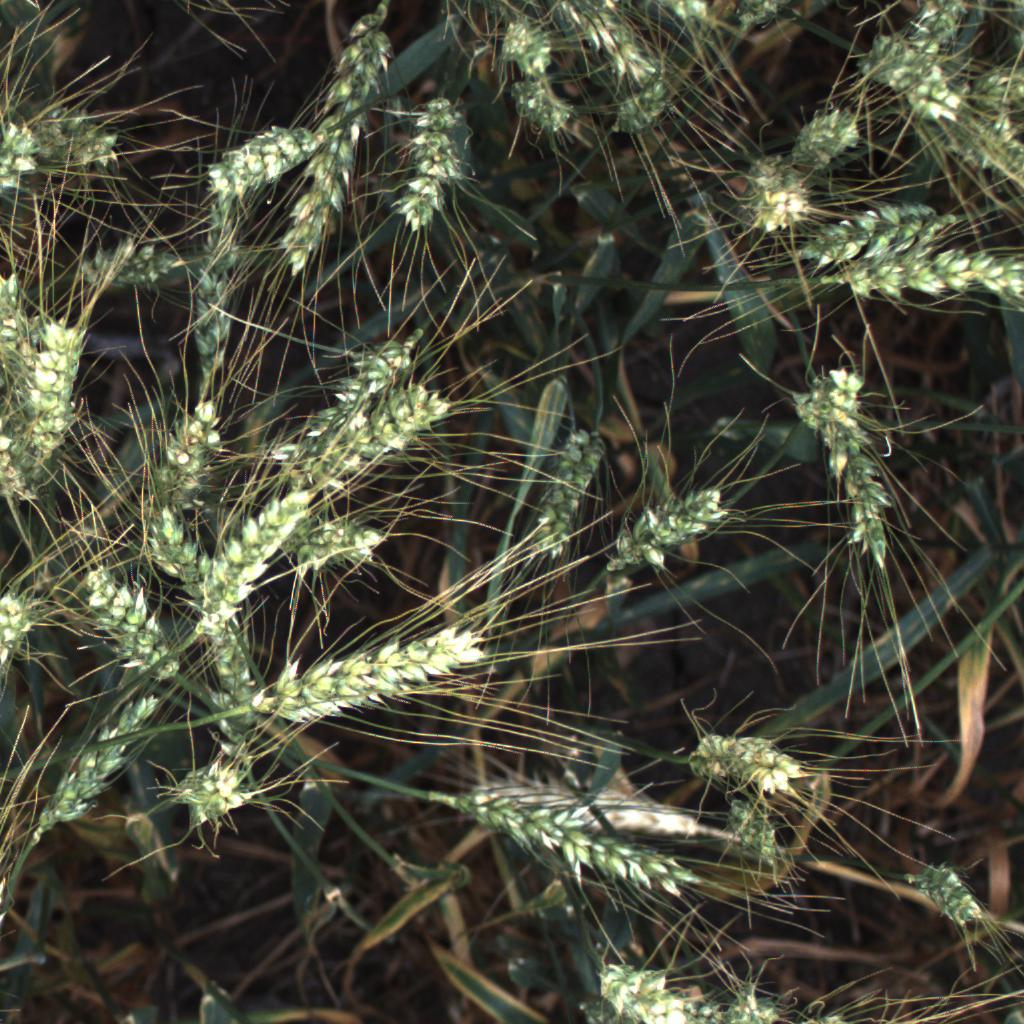0-0: (282, 0, 401, 284), (238, 619, 505, 724), (445, 795, 705, 899), (275, 323, 433, 458), (796, 388, 898, 576), (27, 694, 160, 836), (196, 483, 320, 635), (307, 375, 468, 488), (79, 554, 185, 690), (391, 97, 486, 244), (206, 101, 344, 202), (791, 194, 971, 265), (529, 414, 616, 560), (24, 306, 95, 482), (194, 175, 250, 388), (606, 479, 720, 578), (850, 32, 964, 127), (828, 251, 1024, 305), (686, 713, 808, 794), (144, 394, 227, 512), (732, 154, 825, 247), (592, 959, 716, 1024), (805, 345, 891, 438), (561, 4, 664, 79), (715, 782, 796, 874), (779, 103, 861, 187), (175, 750, 256, 835), (46, 96, 125, 182), (902, 860, 990, 937), (295, 509, 394, 577), (72, 240, 186, 292), (948, 116, 1024, 191), (607, 82, 682, 149), (153, 505, 207, 598), (0, 579, 49, 679), (892, 0, 980, 54), (482, 12, 554, 76), (510, 84, 582, 147), (0, 258, 34, 391), (0, 111, 51, 198), (208, 622, 257, 705), (0, 402, 32, 517), (968, 68, 1024, 118), (719, 982, 779, 1024), (731, 1, 788, 33), (665, 0, 716, 25), (802, 1010, 853, 1024)
